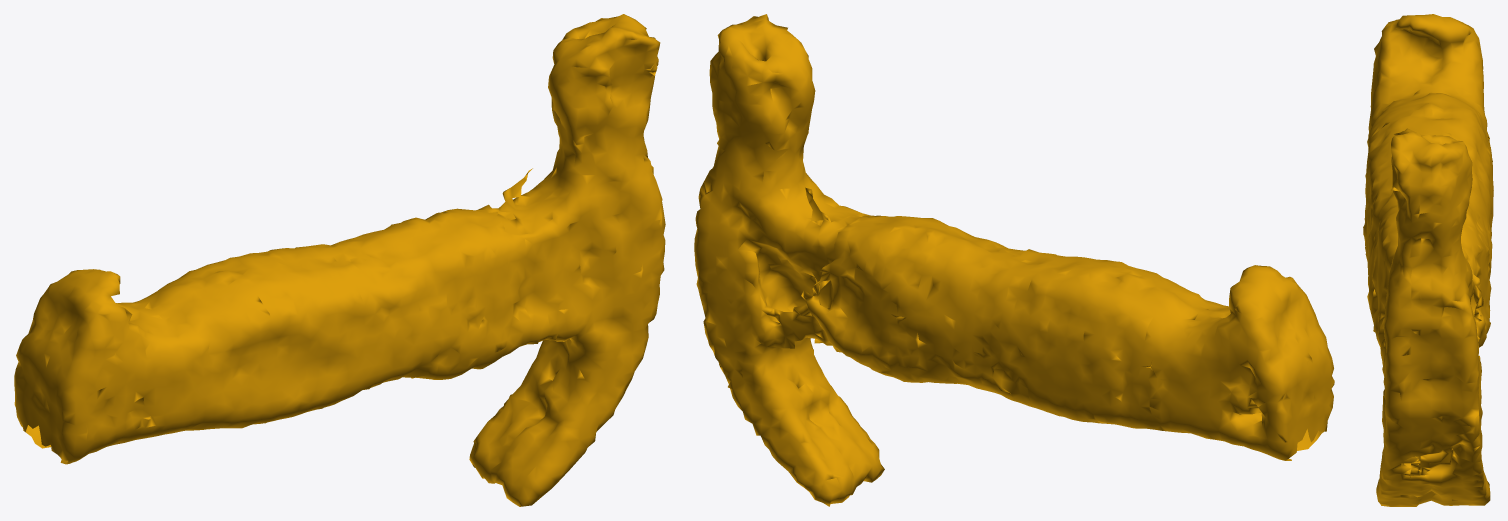
File: model_origin.obj
The picture shows the model from 3 angles, left to right: view 1: azimuth 30°, elevation 25°; view 2: azimuth 150°, elevation 25°; view 3: azimuth 270°, elevation 25°; orthographic projection. The views are drawn at different scales.
Bounding box in the file's own units: 1 × 0.7008 × 0.1967.
